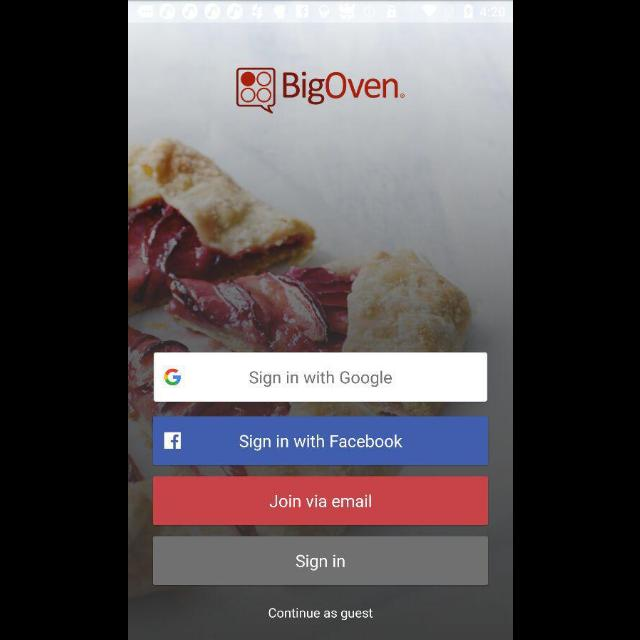backgroundimage: (128, 24, 512, 640)
image: (236, 68, 404, 114)
text: (268, 608, 372, 620)
textbutton: (152, 536, 488, 586), (152, 476, 488, 526), (152, 416, 488, 466), (153, 352, 487, 402)
uppertaskbar: (128, 1, 512, 23)
